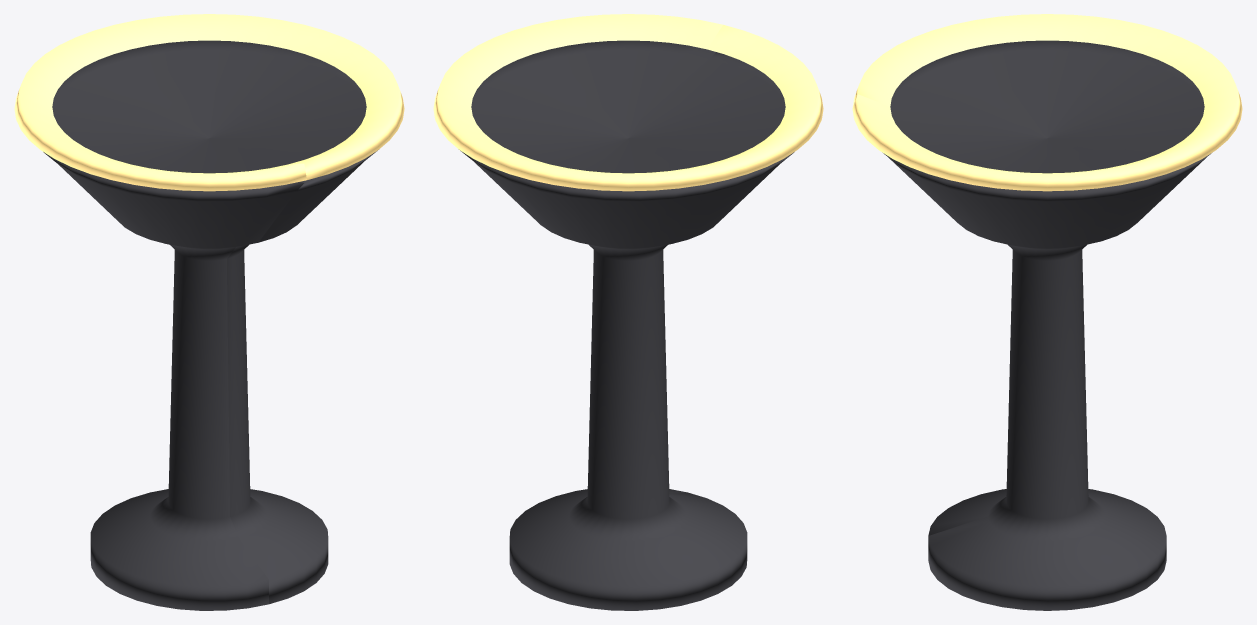
File: mwx_brazier.glb
The picture shows the model from 3 angles, left to right: view 1: azimuth 30°, elevation 25°; view 2: azimuth 150°, elevation 25°; view 3: azimuth 270°, elevation 25°; orthographic projection.
Visible parts, largest first — view 1: mwx_brazier; view 2: mwx_brazier; view 3: mwx_brazier.
Boxes of the visible parts, x1=… form: mwx_brazier: x1=14, y1=14, x2=404, y2=610; mwx_brazier: x1=433, y1=14, x2=823, y2=610; mwx_brazier: x1=852, y1=14, x2=1242, y2=610.
Size of the model in its own units: 3.6 by 4.75 by 3.6.
